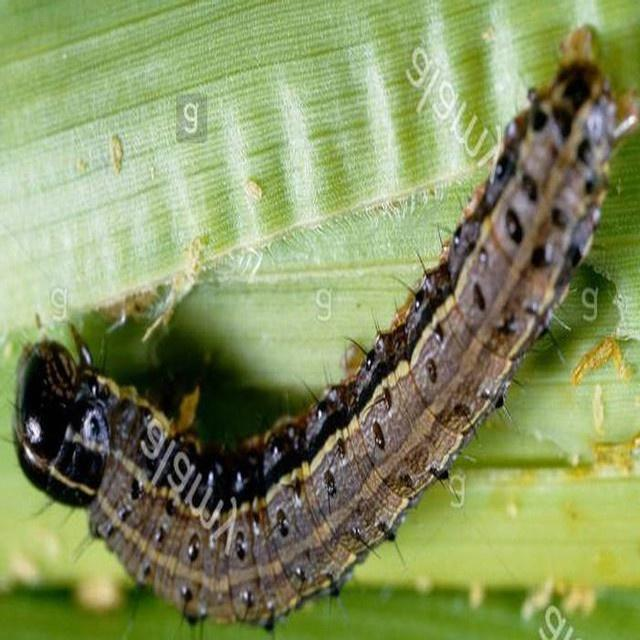worm: (2, 22, 640, 638)
